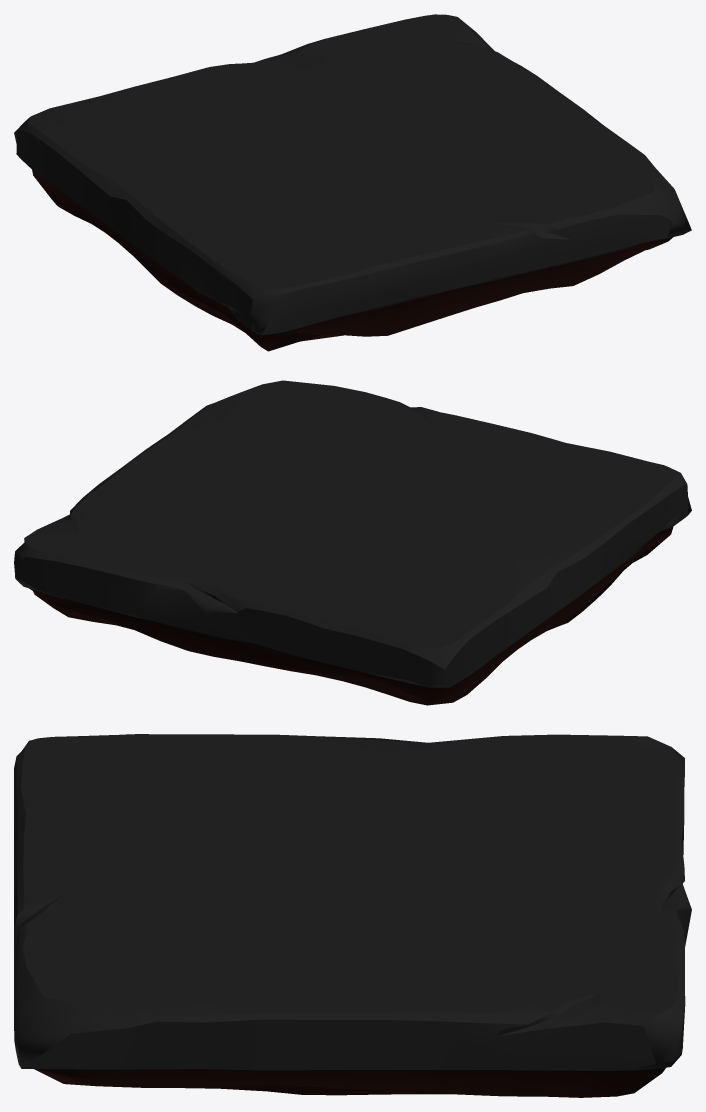
The model's file is OUT_Platforme_Petit_Pierre_01_LOD0.fbx.
3 renders of one model, top to bottom at view 1: azimuth 30°, elevation 25°; view 2: azimuth 150°, elevation 25°; view 3: azimuth 270°, elevation 25°, orthographic. The views are drawn at different scales.
Visible parts, largest first — view 1: OUT_Platforme_Petit_Pierre_01_LOD0; view 2: OUT_Platforme_Petit_Pierre_01_LOD0; view 3: OUT_Platforme_Petit_Pierre_01_LOD0.
Boxes of the visible parts, x1,y1,x2,y2 form: OUT_Platforme_Petit_Pierre_01_LOD0: [14, 14, 691, 351]; OUT_Platforme_Petit_Pierre_01_LOD0: [14, 380, 691, 705]; OUT_Platforme_Petit_Pierre_01_LOD0: [14, 734, 691, 1097].
Size of the model in its own units: 400 by 80.08 by 401.
